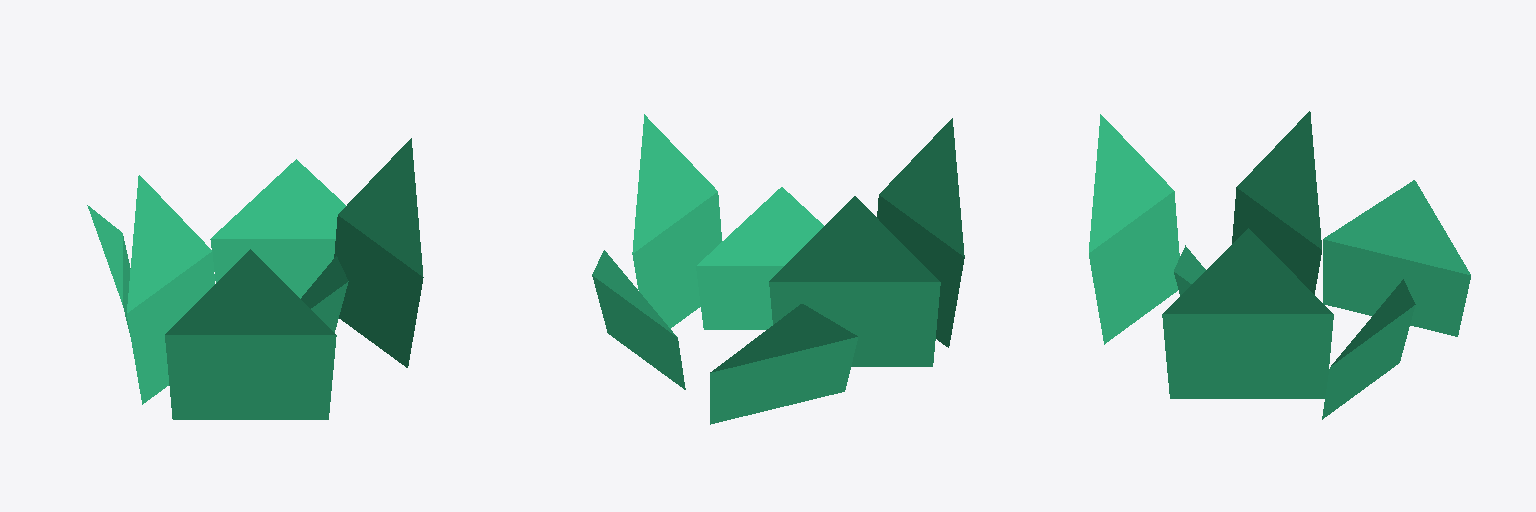
Rendered from grass.obj.
The picture shows the model from 3 angles: view 1: azimuth 30°, elevation 25°; view 2: azimuth 150°, elevation 25°; view 3: azimuth 270°, elevation 25°; orthographic projection.
Visible parts, largest first — view 1: grass; view 2: grass; view 3: grass.
Part boxes in pixels (x1,y1,x2,y2): grass: (87,138,423,419); grass: (592,114,964,424); grass: (1089,111,1470,419).
Size of the model in its own units: 0.2345 by 0.1425 by 0.2573.